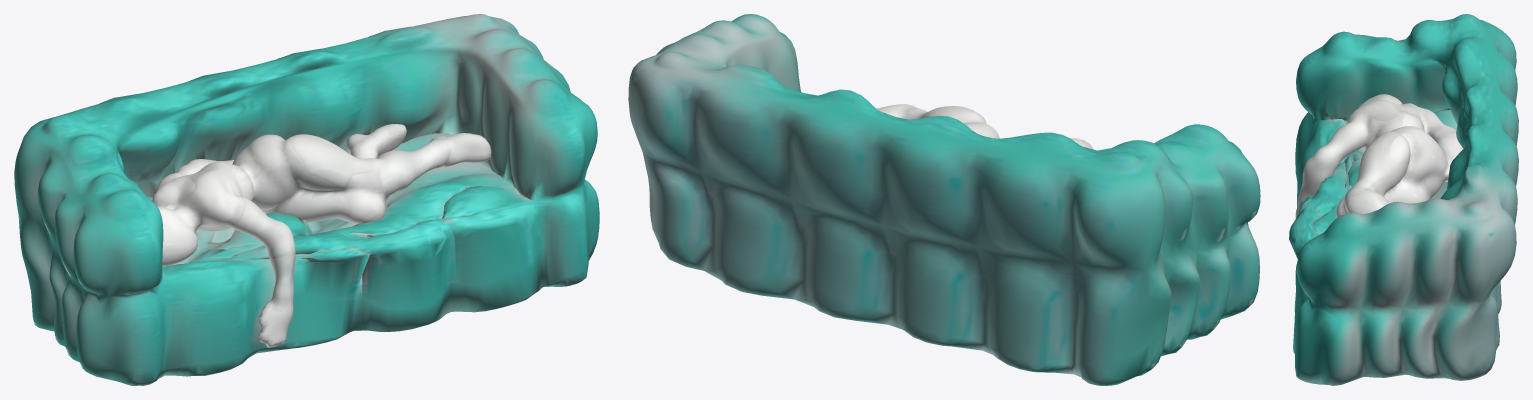
File: ani2.glb
3 renders of one model, left to right at view 1: azimuth 30°, elevation 25°; view 2: azimuth 150°, elevation 25°; view 3: azimuth 270°, elevation 25°, orthographic. The views are drawn at different scales.
Visible parts, largest first — view 1: Cube, Beta_Surface; view 2: Cube, Beta_Surface; view 3: Cube, Beta_Surface.
Part boxes in pixels (box(x1,y1,x2,y2)): Cube: box(14, 14, 599, 385); Beta_Surface: box(152, 124, 491, 347); Cube: box(628, 14, 1260, 385); Beta_Surface: box(877, 104, 1093, 149); Cube: box(1289, 14, 1518, 385); Beta_Surface: box(1295, 94, 1463, 218).
Size of the model in its own units: 4.28 by 1.68 by 1.83.
2 materials, 2 textured.
